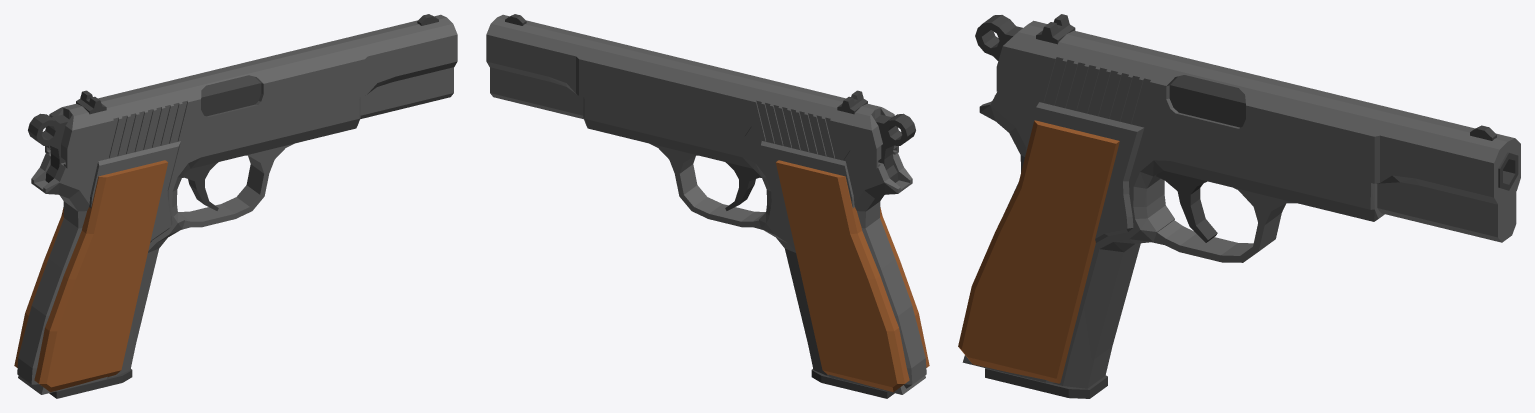
Rendered from pistol.fbx.
3 views of the same model, side by side, from view 1: azimuth 30°, elevation 25°; view 2: azimuth 150°, elevation 25°; view 3: azimuth 330°, elevation 25° (orthographic). The views are drawn at different scales.
Visible parts, largest first — view 1: pistol, pistol_reload, pistol_magazine; view 2: pistol, pistol_reload, pistol_magazine; view 3: pistol, pistol_reload, pistol_magazine.
Part boxes in pixels (<box>): pistol: <box>14,75,360,394</box>; pistol_reload: <box>45,14,457,168</box>; pistol_magazine: <box>49,369,132,398</box>; pistol: <box>583,97,929,394</box>; pistol_reload: <box>486,14,898,168</box>; pistol_magazine: <box>811,369,894,398</box>; pistol: <box>958,15,1518,388</box>; pistol_reload: <box>996,14,1520,242</box>; pistol_magazine: <box>985,368,1107,398</box>.
Size of the model in its own units: 5181 by 3317 by 624.
